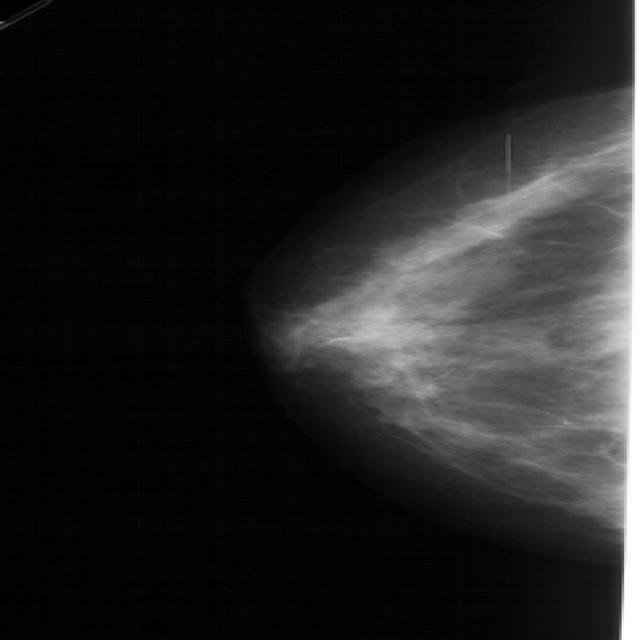tumour: (372, 359, 442, 398)
